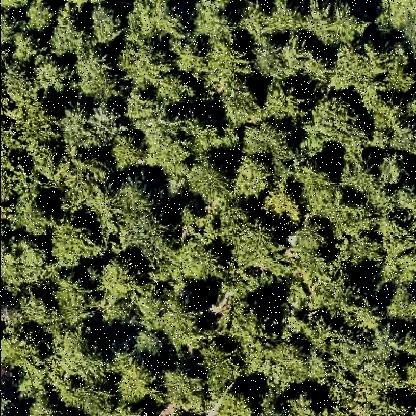tree-top: (105, 180, 172, 254), (94, 249, 155, 317), (144, 110, 201, 182), (57, 148, 117, 216), (230, 212, 287, 282), (163, 104, 229, 164), (309, 89, 369, 153), (62, 97, 126, 157), (290, 266, 358, 319), (47, 213, 105, 274), (330, 39, 390, 97), (115, 38, 177, 94), (305, 1, 371, 51), (51, 330, 113, 383), (162, 297, 214, 359), (234, 300, 276, 376), (1, 235, 53, 296), (111, 352, 165, 410), (375, 216, 416, 292), (74, 51, 128, 108), (174, 237, 232, 290), (196, 335, 250, 391), (203, 40, 257, 96), (50, 272, 102, 330), (1, 321, 51, 381), (159, 362, 212, 416), (299, 165, 347, 223), (285, 215, 335, 270), (266, 337, 316, 389), (254, 36, 304, 86), (259, 79, 309, 127), (188, 160, 236, 210), (12, 104, 60, 154), (231, 155, 277, 206), (66, 375, 121, 416), (352, 363, 403, 407), (258, 183, 306, 229), (338, 193, 382, 243), (166, 32, 210, 82), (221, 80, 263, 132), (375, 44, 416, 97), (193, 1, 241, 45), (139, 1, 190, 42), (48, 19, 94, 64), (33, 51, 75, 100), (242, 119, 288, 162), (341, 232, 387, 273), (1, 154, 32, 214), (107, 130, 149, 174), (87, 2, 126, 49), (326, 332, 368, 374), (376, 2, 416, 46), (345, 295, 387, 336), (153, 69, 195, 110), (374, 150, 414, 192), (13, 201, 51, 243), (265, 1, 307, 38), (383, 287, 416, 331), (133, 327, 171, 364), (275, 391, 330, 416), (215, 390, 261, 416), (24, 2, 58, 37), (385, 120, 416, 156), (8, 31, 38, 67), (377, 393, 416, 416), (27, 397, 69, 416), (401, 350, 416, 400), (396, 181, 416, 216), (1, 1, 27, 15), (405, 91, 416, 123)
